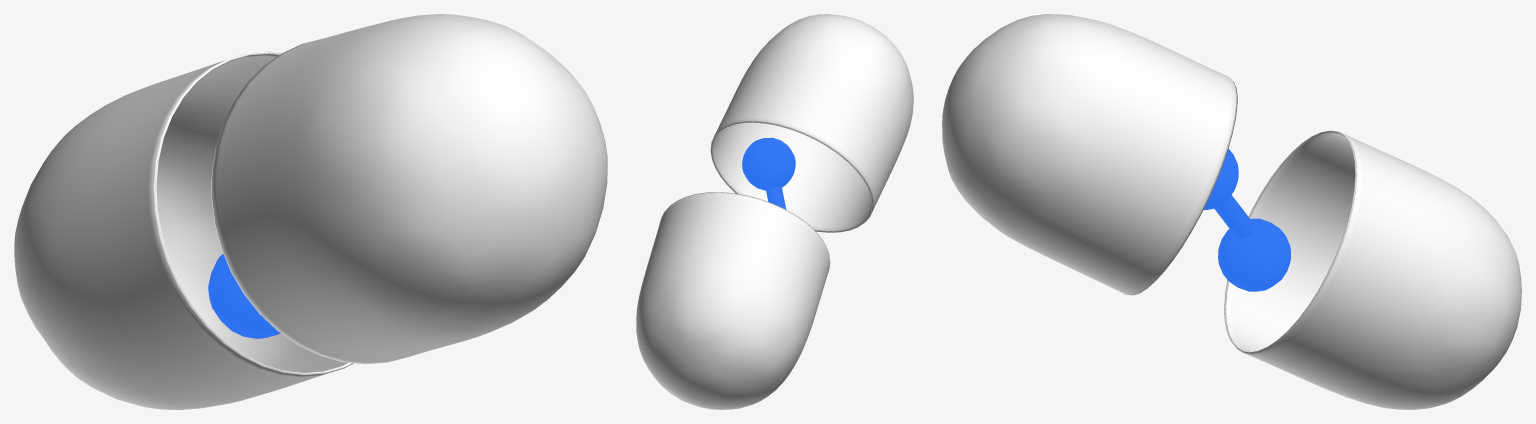
3 renders of one model, left to right at view 1: azimuth 30°, elevation 25°; view 2: azimuth 150°, elevation 25°; view 3: azimuth 270°, elevation 25°, orthographic. The views are drawn at different scales.
Parts seen in each view (by area): view 1: Icosphere, Icosphere.001, Icosphere.004; view 2: Icosphere.001, Icosphere, Icosphere.004; view 3: Icosphere, Icosphere.001, Icosphere.004.
Part boxes in pixels (left/top/right/bottom): Icosphere: left=211, top=14, right=607, bottom=364; Icosphere.001: left=14, top=51, right=353, bottom=409; Icosphere.004: left=208, top=253, right=280, bottom=338; Icosphere.001: left=636, top=192, right=830, bottom=409; Icosphere: left=710, top=14, right=913, bottom=232; Icosphere.004: left=742, top=137, right=795, bottom=209; Icosphere: left=942, top=14, right=1237, bottom=295; Icosphere.001: left=1224, top=130, right=1521, bottom=409; Icosphere.004: left=1203, top=148, right=1290, bottom=291.
Bounding box in the file's own units: 1.53 × 2.49 × 3.38.
